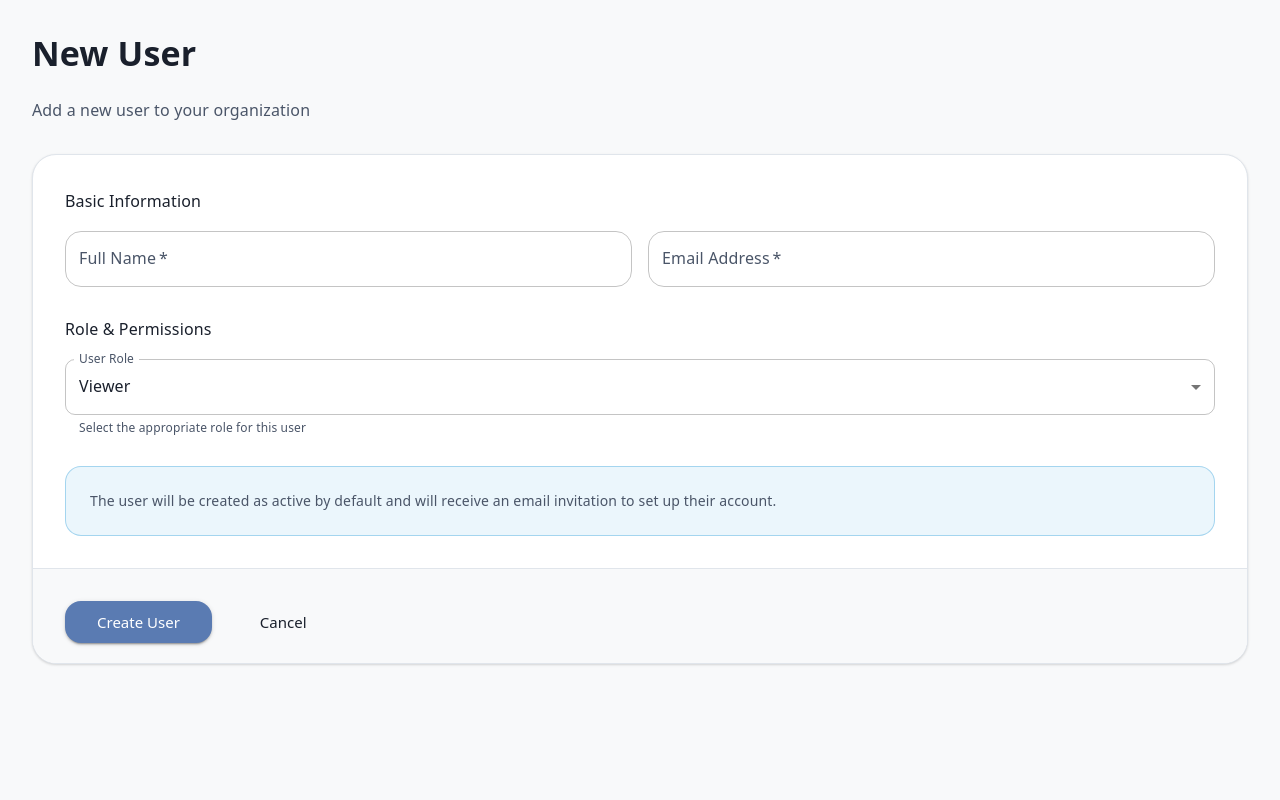
Test case: UserNewFlow - Create User Integration › should show validation error when email is missing
The image size is (1280, 800).
Note: Only fill name
Type "John Doe" into the field labelled "Full Name *".
click(348, 259); type("John Doe")  # box [65, 231, 632, 287]
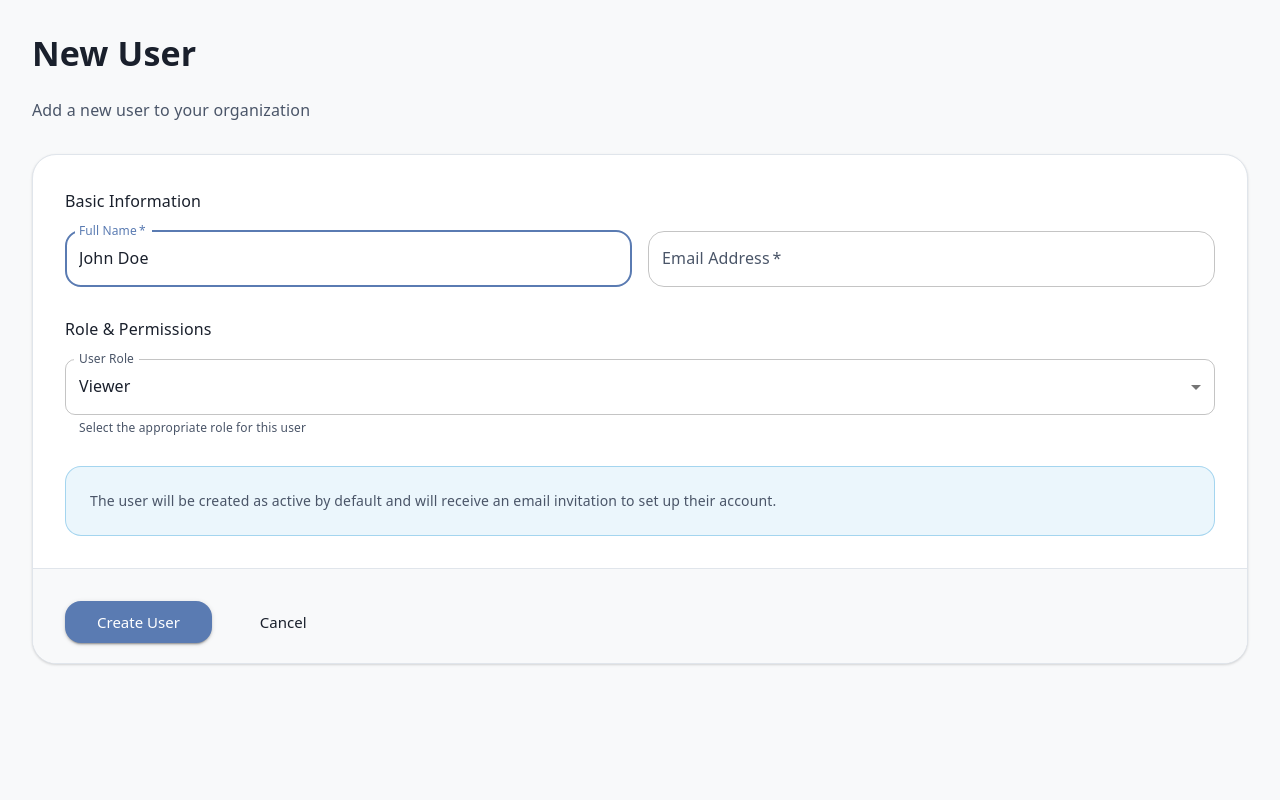
Note: Try to submit
Click the button "Create User".
click(138, 622)  # box [65, 601, 212, 643]
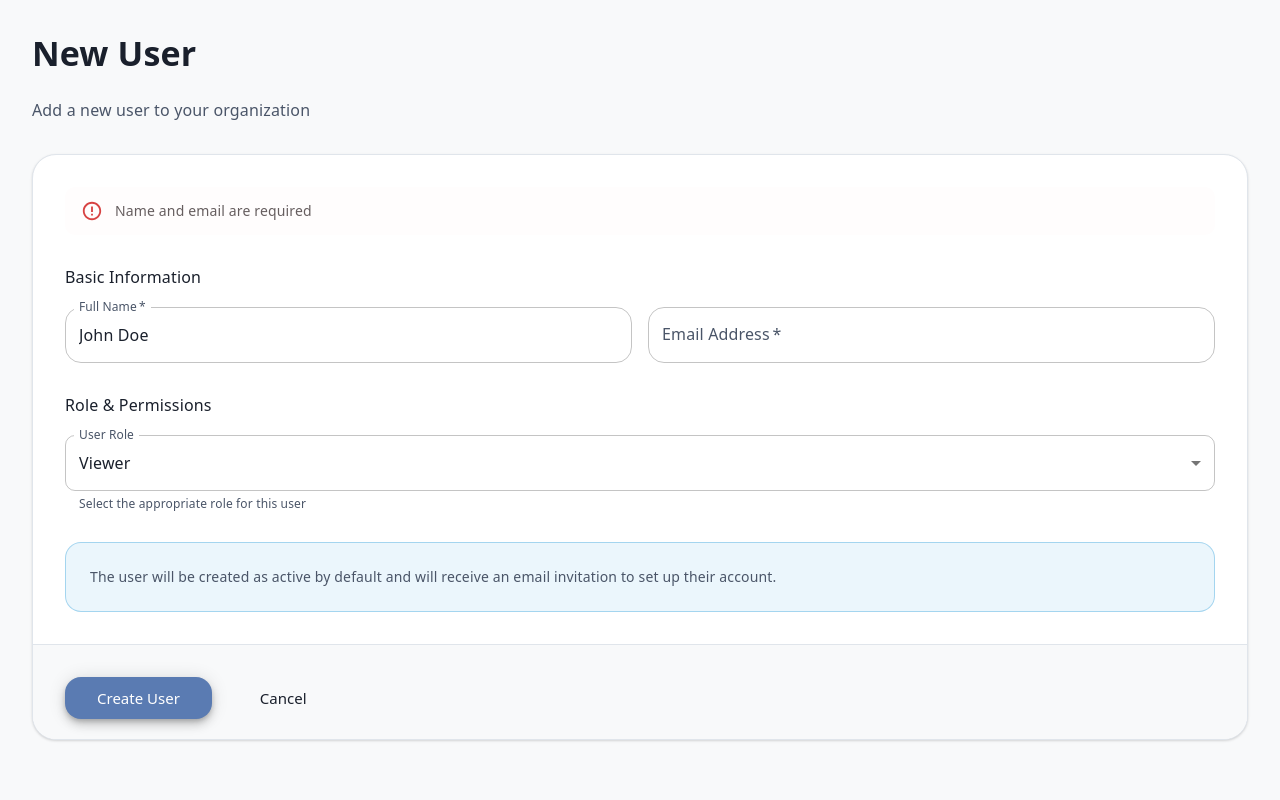
Result: the text "Name and email are required" is shown at [115, 201, 312, 220]
